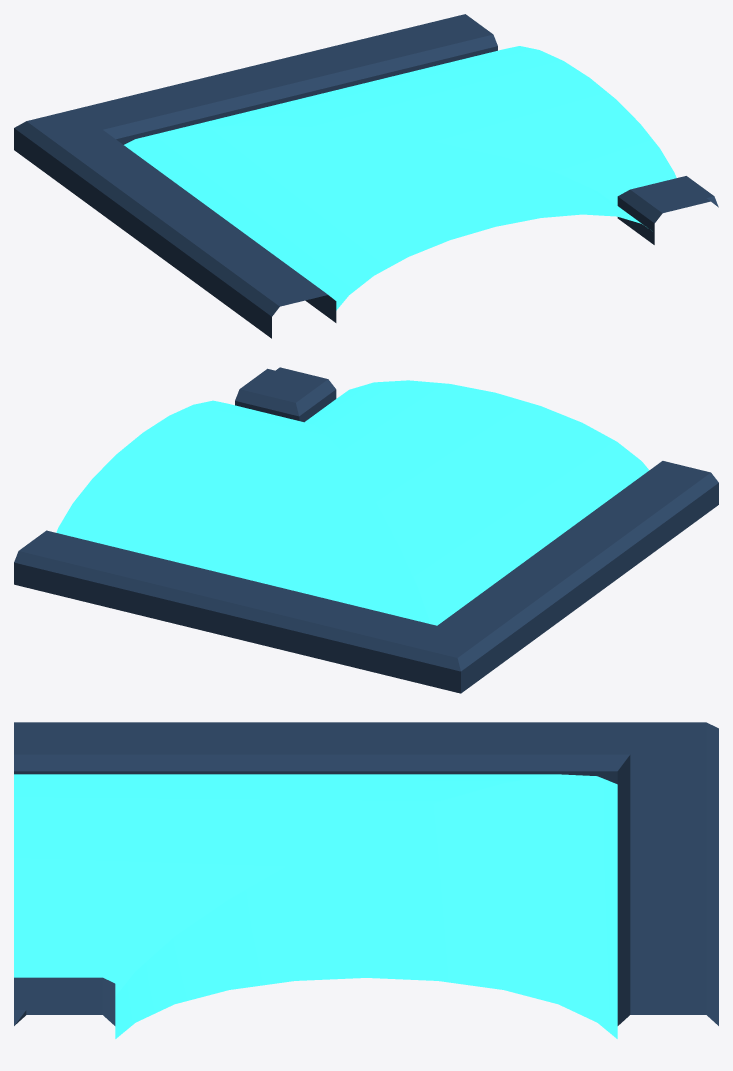
File: Light_Trim_01_SquareShortCorner.fbx
The picture shows the model from 3 angles, top to bottom: view 1: azimuth 30°, elevation 25°; view 2: azimuth 150°, elevation 25°; view 3: azimuth 270°, elevation 25°; orthographic projection. The views are drawn at different scales.
Visible parts, largest first — view 1: Light_Trim_01_SquareShortCorner.001; view 2: Light_Trim_01_SquareShortCorner.001; view 3: Light_Trim_01_SquareShortCorner.001.
Boxes of the visible parts, x1,y1,x2,y2 form: Light_Trim_01_SquareShortCorner.001: [14, 14, 718, 338]; Light_Trim_01_SquareShortCorner.001: [14, 367, 718, 693]; Light_Trim_01_SquareShortCorner.001: [14, 722, 718, 1038].
Bounding box in the file's own units: 0.1 × 0.0123 × 0.1.
